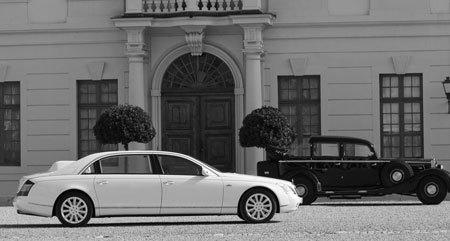car: (14, 149, 304, 231)
